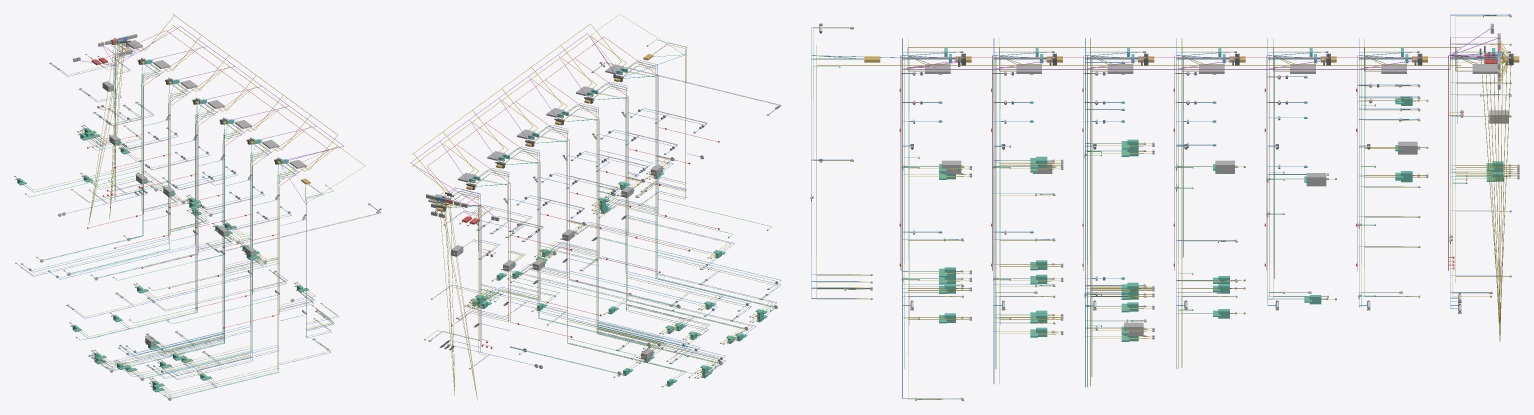
File: equity-uprise-electronics-fabric-v1.glb
3 renders of one model, left to right at view 1: azimuth 30°, elevation 25°; view 2: azimuth 150°, elevation 25°; view 3: azimuth 270°, elevation 25°, orthographic. The views are drawn at different scales.
Bounding box in the file's own units: 61.61 × 64.16 × 105.
